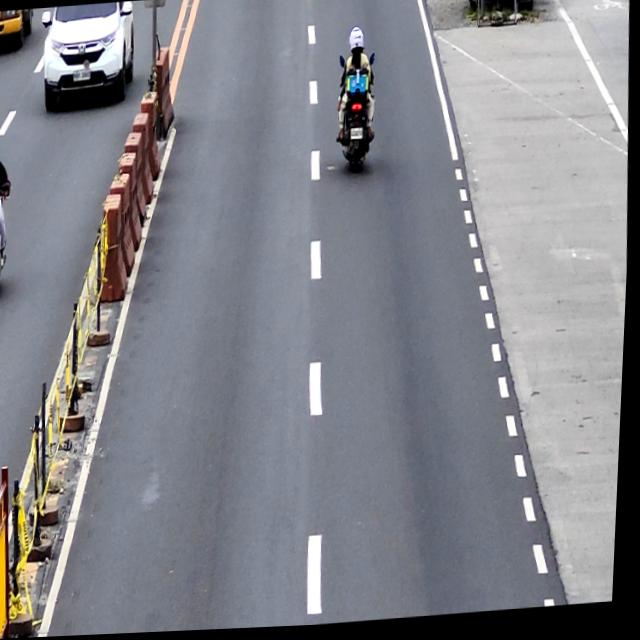License-Plate: (349, 127, 366, 147)
Motorcycle: (335, 23, 382, 177)
